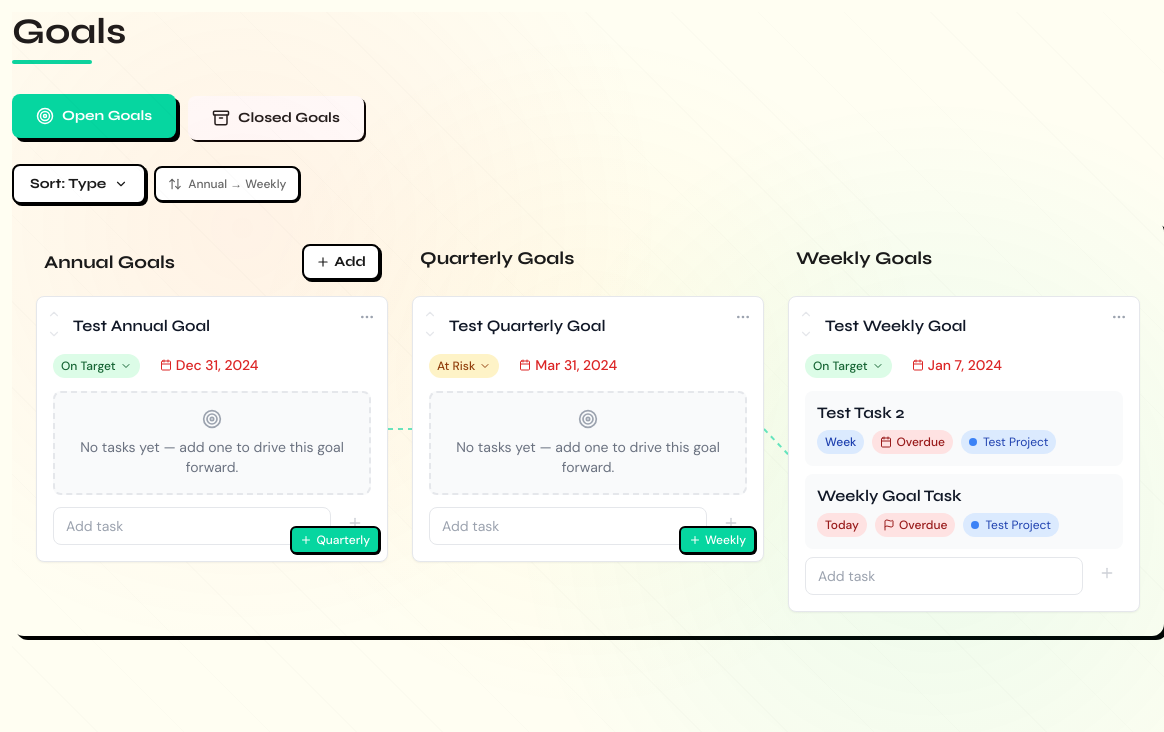
Scenario: GoalsPage › supports inline date editing
This screenshot has width=1164, height=732.
Expected: the heading "Test Annual Goal" is shown, [73,316,210,335]
# Find and click a date picker (get the first one)
Step 1. Click the button labelled "Dec 31, 2024" → [209, 365], box [152,351,266,379]
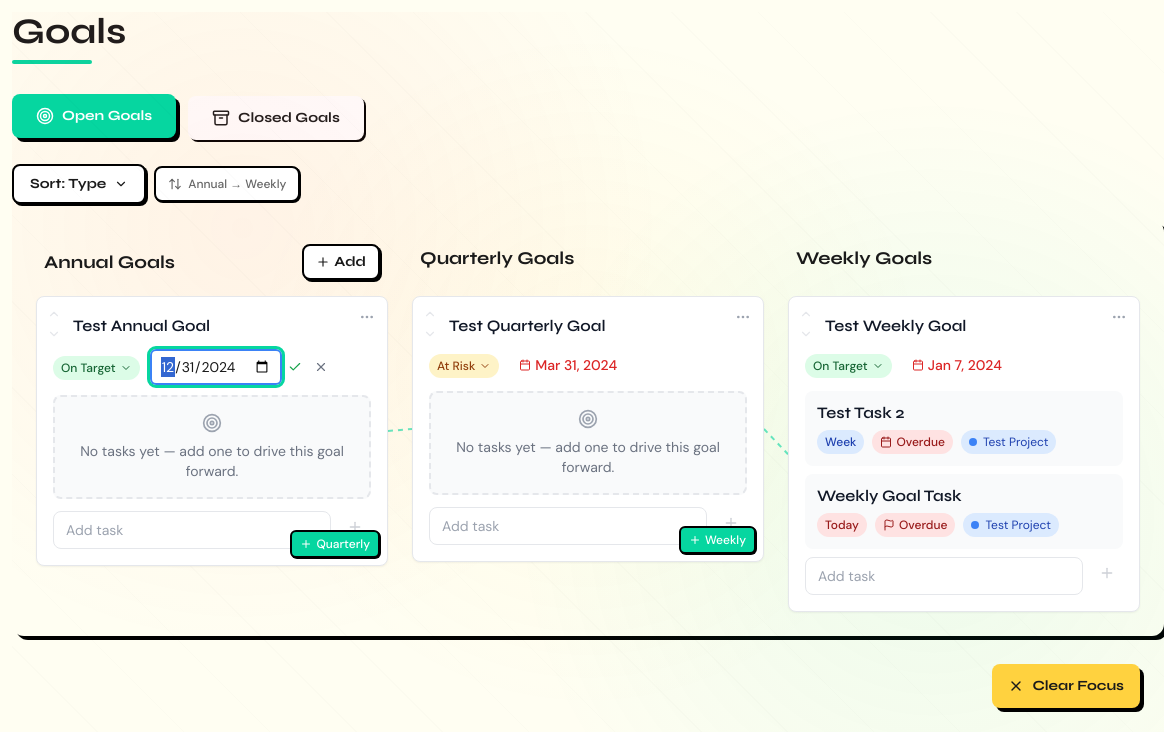
Expected: the date field named "Edit end date" is shown
Expected: the button named "Save date" is shown, [284,356,306,378]
Expected: the button named "Cancel edit" is shown, [310,356,332,378]
# Change the date
Step 2. Type "2025-06-15" into the date field named "Edit end date" → [216, 367], box [152,351,280,383]
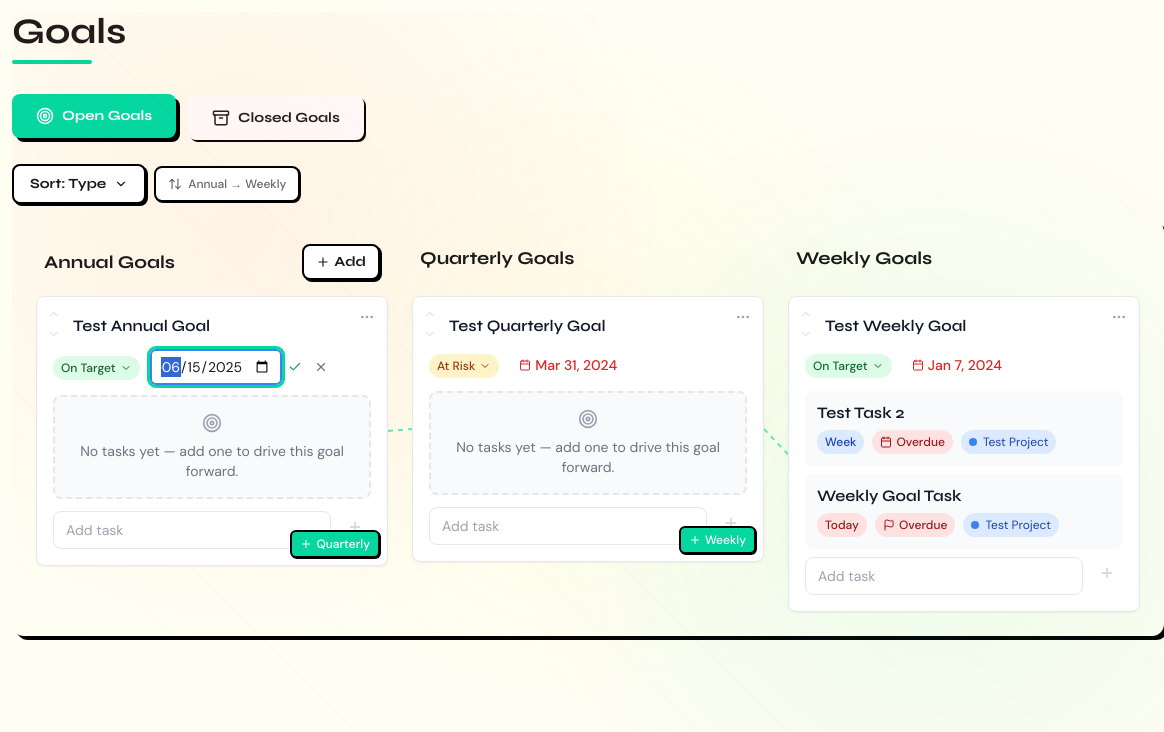
# Save the change
Step 3. Click the button named "Save date" → [295, 367], box [284,356,306,378]
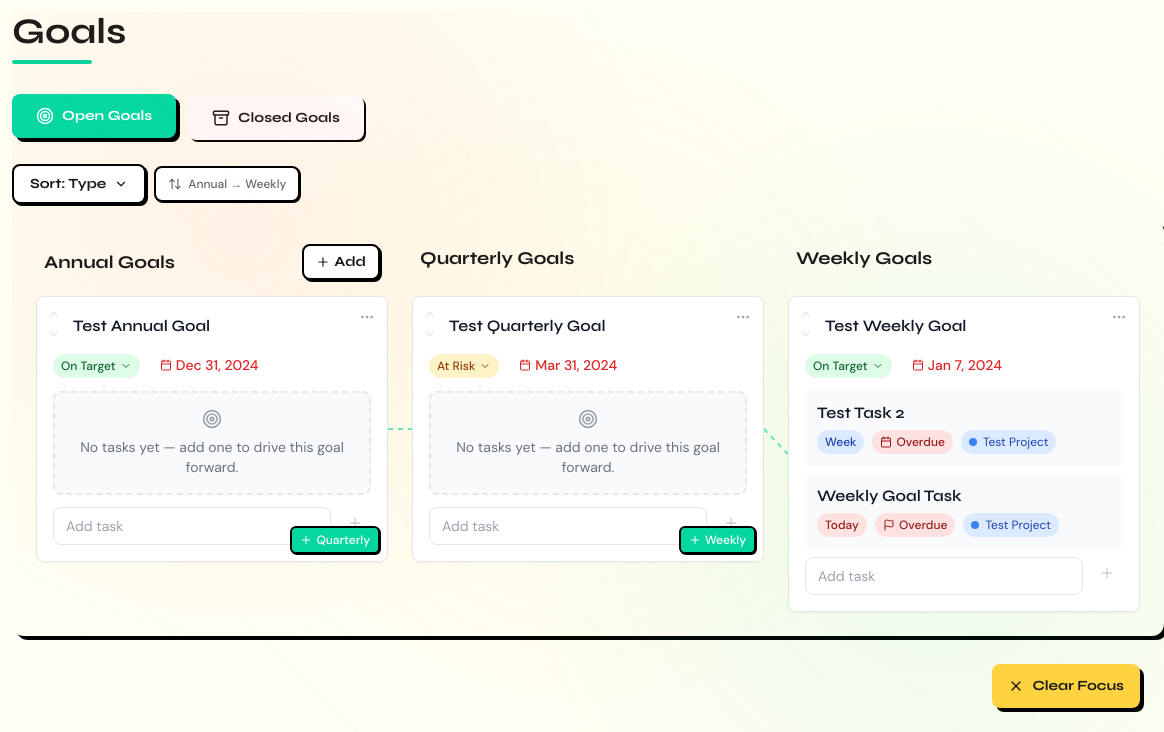
Expected: the date field labelled "Edit end date" is gone
